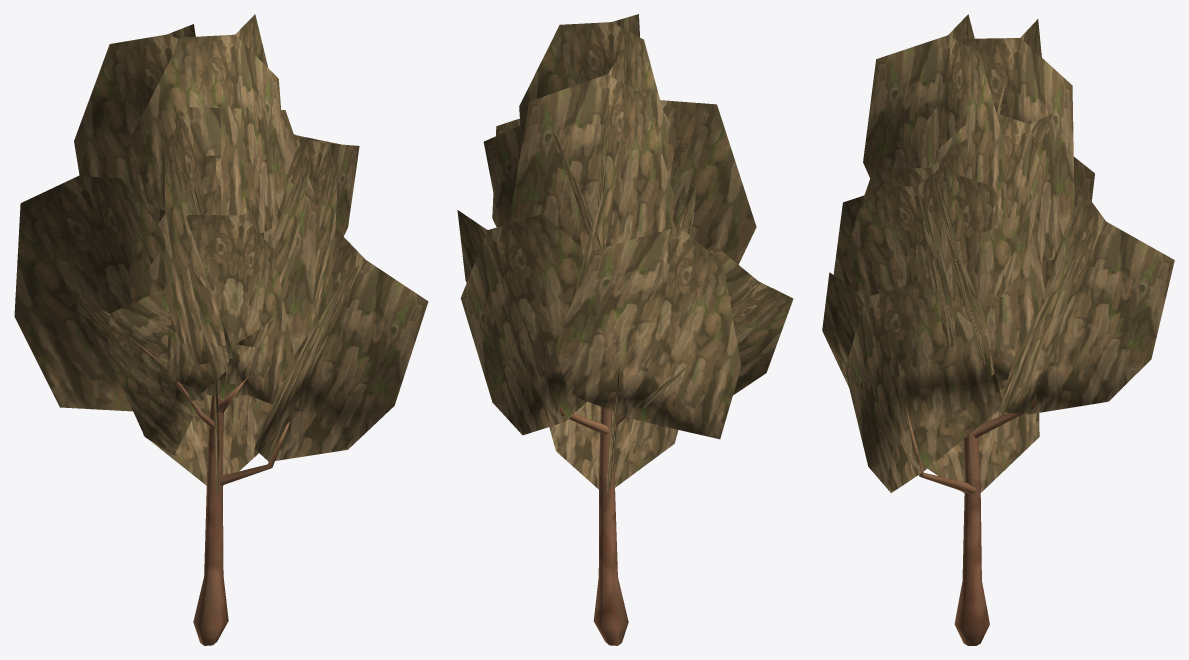
Rendered from P_FirSapling2.obj.
3 views of the same model, side by side, from view 1: azimuth 30°, elevation 25°; view 2: azimuth 150°, elevation 25°; view 3: azimuth 270°, elevation 25° (orthographic).
Bounding box in the file's own units: 3.11 × 5.75 × 2.98.
